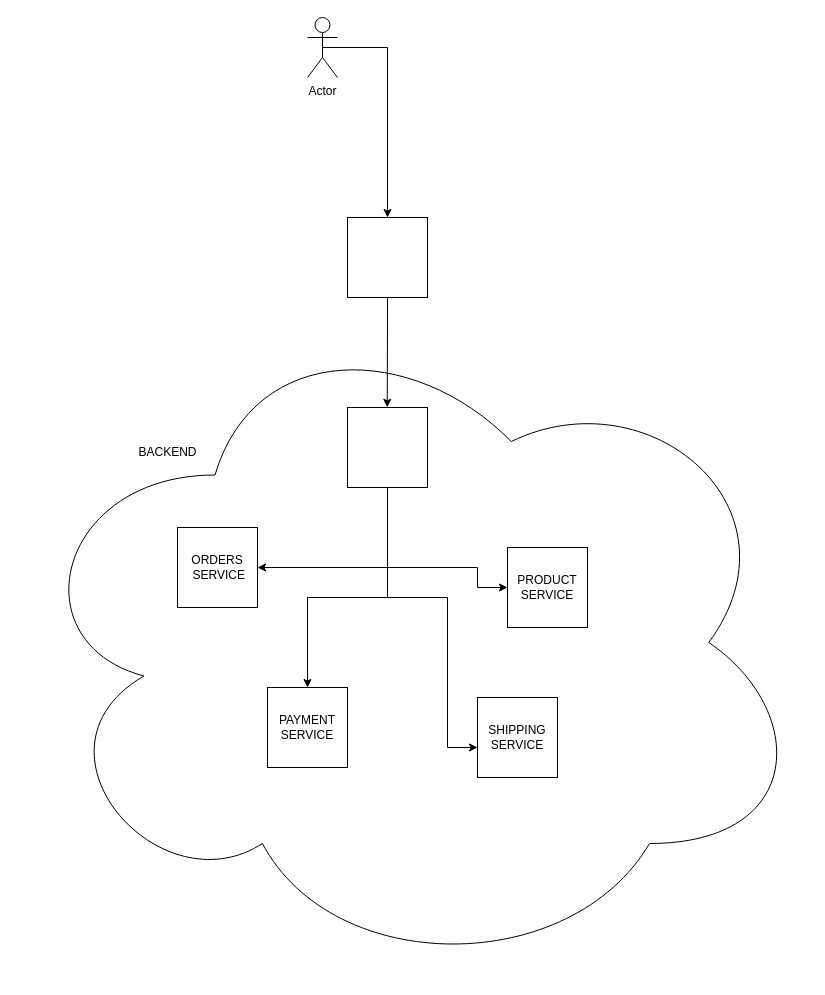
The diagram is 825 pixels wide and 995 high, and some of its shapes have lost their labels. Each missing label, with the centre of its shape:
"API GATEWAY" belongs at (387,447).
"FRONTEND" belongs at (387,257).
